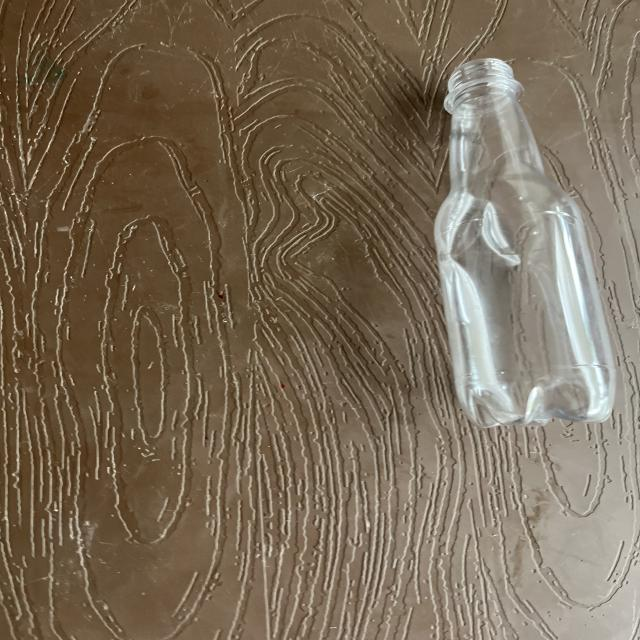PET_ClearBottle: (442, 54, 639, 635)
